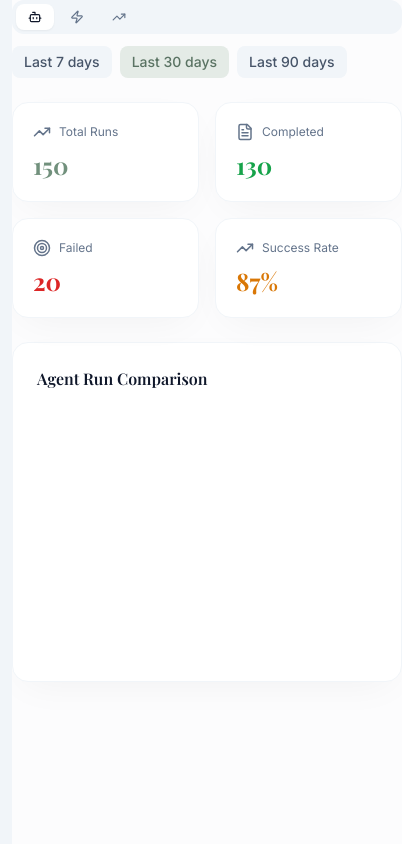
Test: AIPerformancePage › switches to automations tab
The width and height of the screenshot is (402, 844).
Expected: the element with test id "perf-tab-bar" is shown, [12,0,401,34]
Step 1. Click the button with test id "tab-automations" → (77,17), box [58,4,96,30]
(page scrolled)
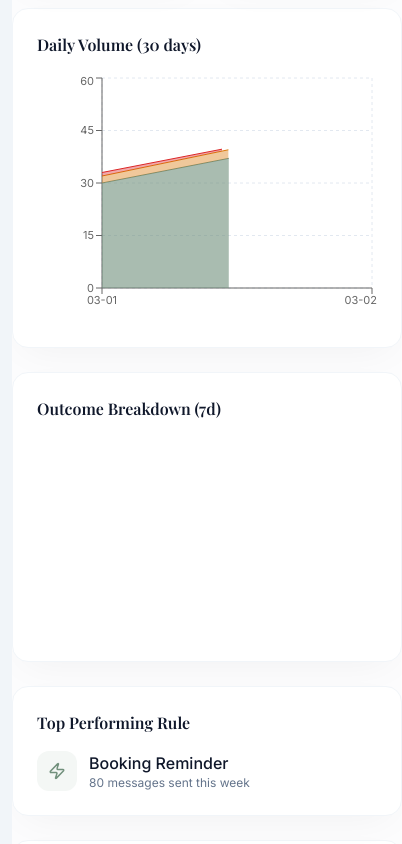
Expected: the element with test id "agent-performance-section" is gone
